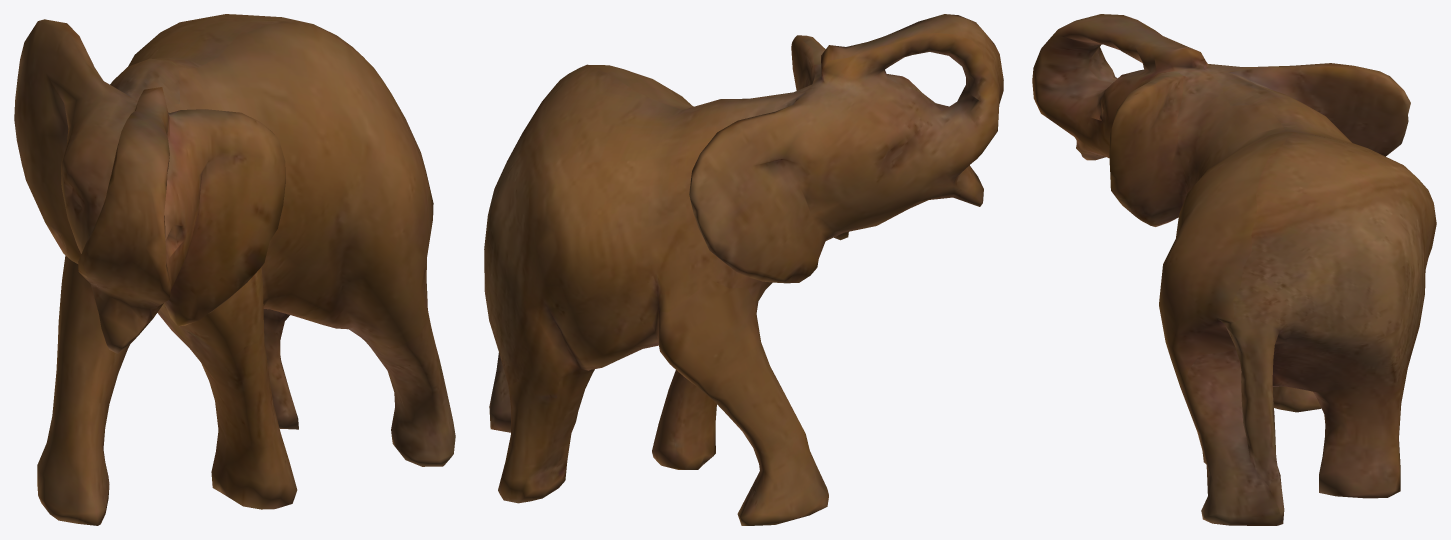
Rendered from ph-carved-wooden-elephant.glb.
3 renders of one model, left to right at view 1: azimuth 30°, elevation 25°; view 2: azimuth 150°, elevation 25°; view 3: azimuth 270°, elevation 25°, orthographic. The views are drawn at different scales.
Visible parts, largest first — view 1: carved_wooden_elephant; view 2: carved_wooden_elephant; view 3: carved_wooden_elephant.
Boxes of the visible parts, <box> form: carved_wooden_elephant: <box>14,14,455,525</box>; carved_wooden_elephant: <box>484,14,1003,525</box>; carved_wooden_elephant: <box>1032,14,1436,525</box>.
Bounding box in the file's own units: 1 × 1 × 1.
1 material, 1 textured.
